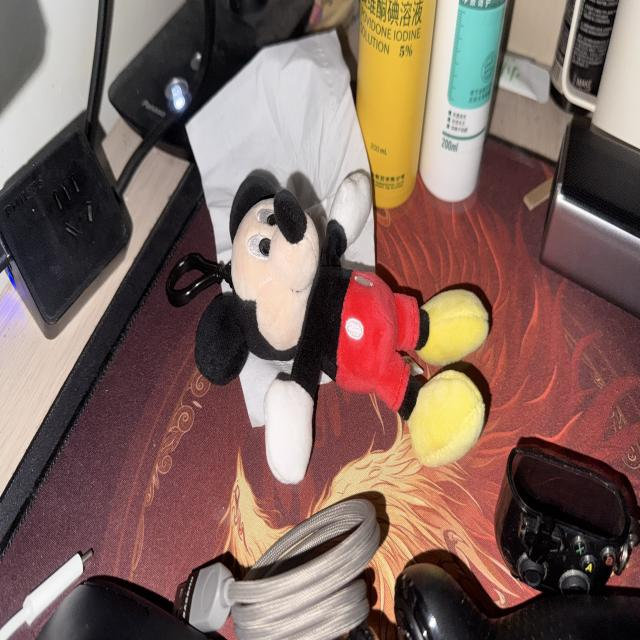mickey: (196, 173, 488, 483)
